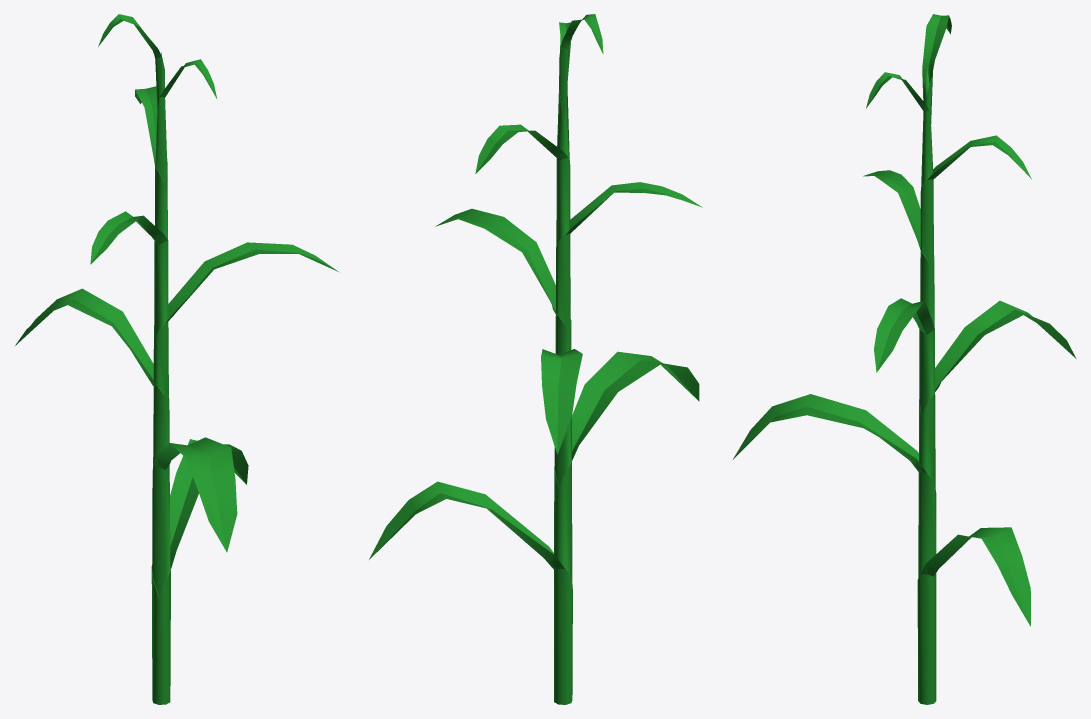
Rendered from SM_Corn_Growing2.fbx.
The picture shows the model from 3 angles, left to right: view 1: azimuth 30°, elevation 25°; view 2: azimuth 150°, elevation 25°; view 3: azimuth 270°, elevation 25°; orthographic projection. The views are drawn at different scales.
Parts seen in each view (by area): view 1: SM_Corn_Growing2; view 2: SM_Corn_Growing2; view 3: SM_Corn_Growing2.
Boxes of the visible parts, bbox=[...] form: SM_Corn_Growing2: bbox=[14, 14, 339, 704]; SM_Corn_Growing2: bbox=[369, 14, 702, 704]; SM_Corn_Growing2: bbox=[733, 14, 1076, 704].
Size of the model in its own units: 63.51 by 162 by 75.47.
